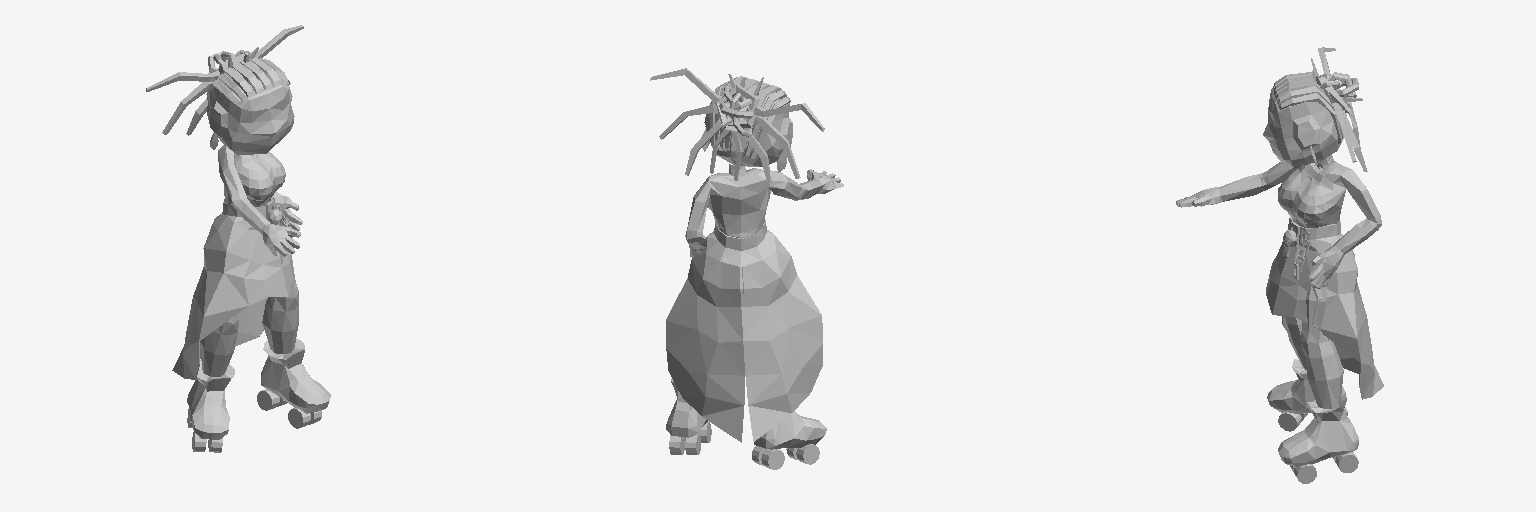
The model's file is bruja_000007.obj.
3 renders of one model, left to right at view 1: azimuth 30°, elevation 25°; view 2: azimuth 150°, elevation 25°; view 3: azimuth 270°, elevation 25°, orthographic.
Visible parts, largest first — view 1: Bruja_Plane.001; view 2: Bruja_Plane.001; view 3: Bruja_Plane.001.
Boxes of the visible parts, <box> form: Bruja_Plane.001: <box>146,25,330,452</box>; Bruja_Plane.001: <box>650,68,843,469</box>; Bruja_Plane.001: <box>1176,47,1383,483</box>.
Bounding box in the file's own units: 7.41 × 16.5 × 8.07.